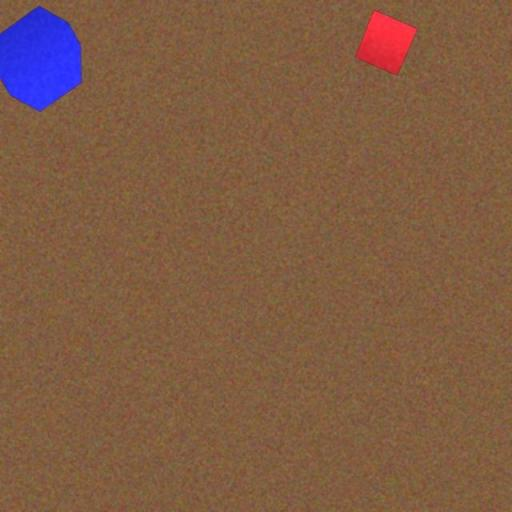RED_SQUARE: (354, 9, 418, 76)
